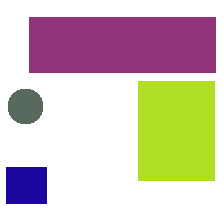circle: (8, 89, 42, 123)
rectangle: (29, 17, 215, 72), (138, 81, 214, 180), (6, 167, 46, 203)
